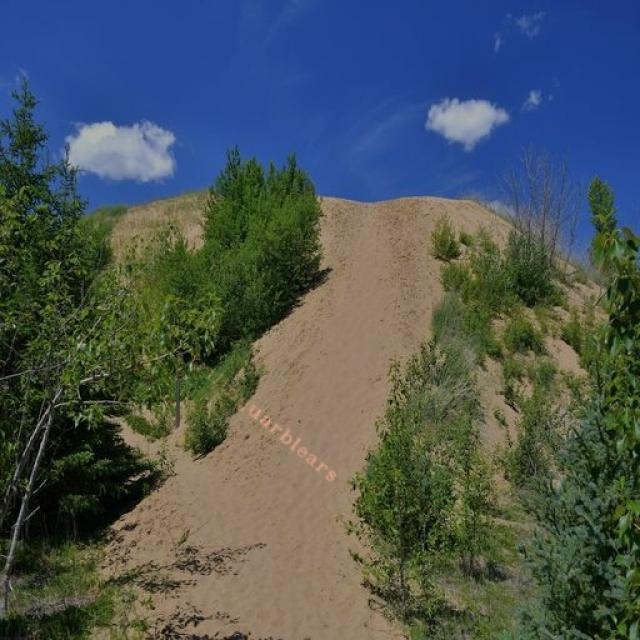watermark: (181, 345, 346, 487)
